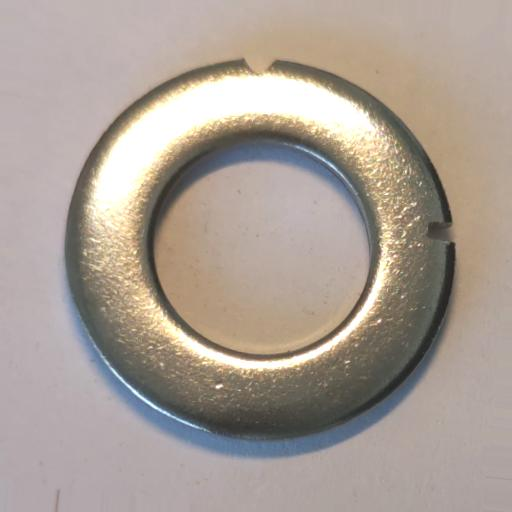burr: (424, 219, 457, 245), (244, 51, 276, 74)
